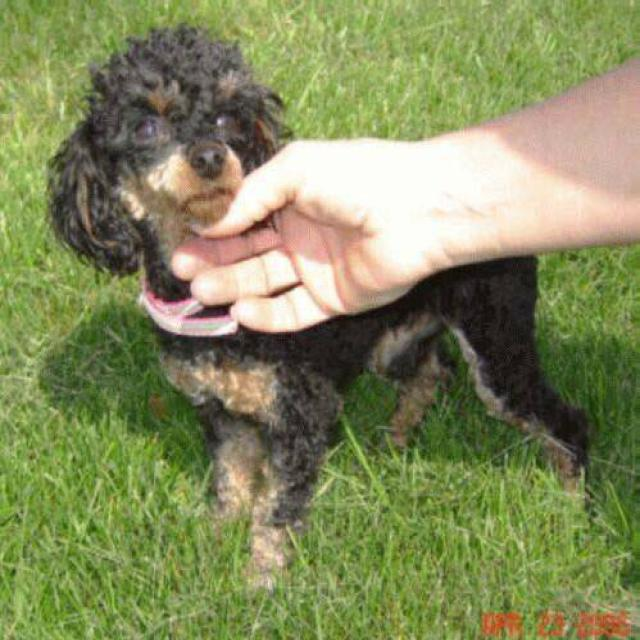dog: (42, 20, 594, 597)
